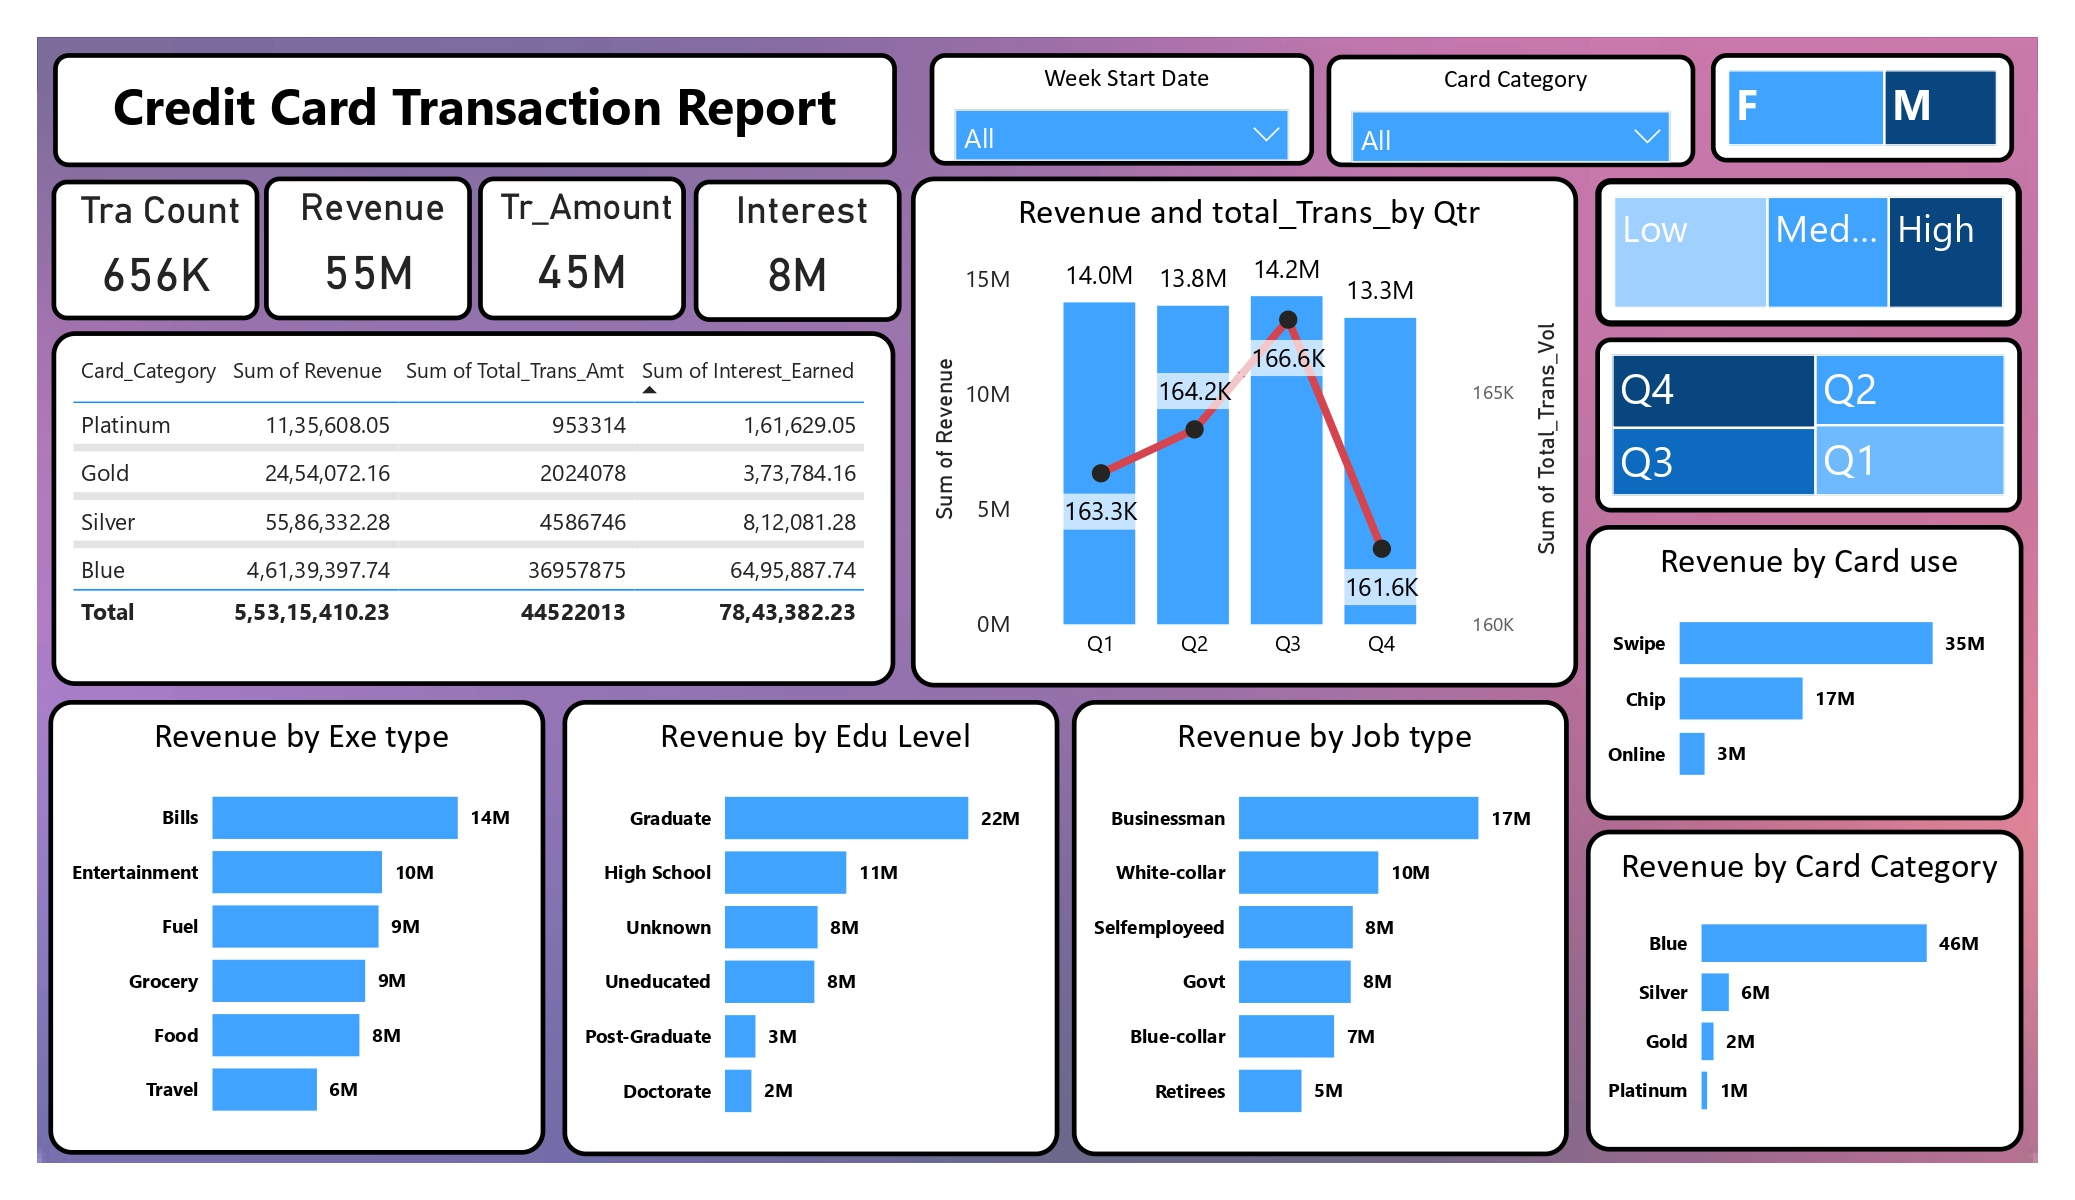

The dashboard page shown, as its layout file describes it:
{"tool":"powerbi","page":{"name":"Transaction","canvas":[1280,720],"ordinal":0},"visuals":[{"type":"textbox","box":[9.9,10.4,539.7,72.4],"z":0},{"type":"barChart","title":"Revenue by Exe type","fields":{"Y":["Sum(credit_card details.Revenue)"],"Category":["credit_card details.Exp Type"]},"box":[7.4,424.4,318,291],"z":1000},{"type":"lineStackedColumnComboChart","title":"Revenue and total_Trans_by Qtr","fields":{"Y":["Sum(credit_card details.Revenue)"],"Category":["credit_card details.Qtr"],"Y2":["Sum(credit_card details.Total_Trans_Vol)"]},"box":[558.9,88.7,427.3,327],"z":2000},{"type":"barChart","title":"Revenue by Edu Level","fields":{"Y":["Sum(credit_card details.Revenue)"],"Category":["customer details.Education_Level"]},"box":[335.7,424.4,317.9,291.3],"z":3000},{"type":"barChart","title":"Revenue by Job type","fields":{"Y":["Sum(credit_card details.Revenue)"],"Category":["customer details.Customer_Job"]},"box":[662.4,424.4,317.9,291.3],"z":4000},{"type":"barChart","title":"Revenue by Card Category","fields":{"Y":["Sum(credit_card details.Revenue)"],"Category":["credit_card details.Card_Category"]},"box":[990.7,507.2,280,205.5],"z":5000},{"type":"barChart","title":"Revenue by Card use","fields":{"Y":["Sum(credit_card details.Revenue)"],"Category":["credit_card details.Use Chip"]},"box":[990.7,312,280,189.3],"z":6000},{"type":"tableEx","fields":{"Values":["credit_card details.Card_Category","Sum(credit_card details.Revenue)","Sum(credit_card details.Total_Trans_Amt)","Sum(credit_card details.Interest_Earned)"]},"box":[8.9,187.8,539.7,227],"z":7000},{"type":"card","title":"Revenue","fields":{"Values":["Sum(credit_card details.Revenue)"]},"box":[144.8,89.1,133.1,91.7],"z":8000},{"type":"card","title":"Tr_Amount","fields":{"Values":["Sum(credit_card details.Total_Trans_Amt)"]},"box":[282.3,89.1,133.1,91.7],"z":9000},{"type":"card","title":"Interest","fields":{"Values":["Sum(credit_card details.Interest_Earned)"]},"box":[419.9,90.6,133.1,91.7],"z":10000},{"type":"card","title":"Tra Count","fields":{"Values":["Sum(credit_card details.Total_Trans_Vol)"]},"box":[8.8,90.6,133.1,90.2],"z":11000},{"type":"slicer","title":"Week Start Date","fields":{"Values":["credit_card details.Week_Start_Date"]},"box":[570.7,9.8,246.6,72.3],"z":12000},{"type":"treemap","fields":{"Group":["customer details.Gender"],"Values":["CountNonNull(customer details.Client_Num)"]},"box":[1070.7,9.8,194.7,70.4],"z":13000},{"type":"slicer","title":"Card Category","fields":{"Values":["credit_card details.Card_Category"]},"box":[825.1,10.9,235.5,72.3],"z":14000},{"type":"treemap","fields":{"Values":["Avg(customer details.Client_Num)"],"Group":["credit_card details.Qtr"]},"box":[996.6,192.2,273.5,112],"z":15000},{"type":"treemap","fields":{"Values":["CountNonNull(customer details.Client_Num)"],"Group":["customer details.income group"]},"box":[996.6,90.2,273.5,94.6],"z":16000}]}

Visuals, with their boxes in screenshot pixels (x1, y1, x2, y2):
textbox: 58 54 891 166
"Revenue by Exe type" barChart: 55 692 545 1141
"Revenue and total_Trans_by Qtr" lineStackedColumnComboChart: 905 175 1564 679
"Revenue by Edu Level" barChart: 561 692 1051 1141
"Revenue by Job type" barChart: 1065 692 1555 1141
"Revenue by Card Category" barChart: 1571 820 2003 1137
"Revenue by Card use" barChart: 1571 519 2003 811
tableEx - credit_card details.Card_Category x Sum(credit_card details.Revenue): 57 327 889 677
"Revenue" card: 267 175 472 317
"Tr_Amount" card: 479 175 684 317
"Interest" card: 691 178 896 319
"Tra Count" card: 57 178 262 317
"Week Start Date" slicer: 923 53 1304 164
treemap - customer details.Gender x CountNonNull(customer details.Client_Num): 1694 53 1994 161
"Card Category" slicer: 1316 55 1679 166
treemap - Avg(customer details.Client_Num) x credit_card details.Qtr: 1580 334 2002 507
treemap - CountNonNull(customer details.Client_Num) x customer details.income group: 1580 177 2002 323
